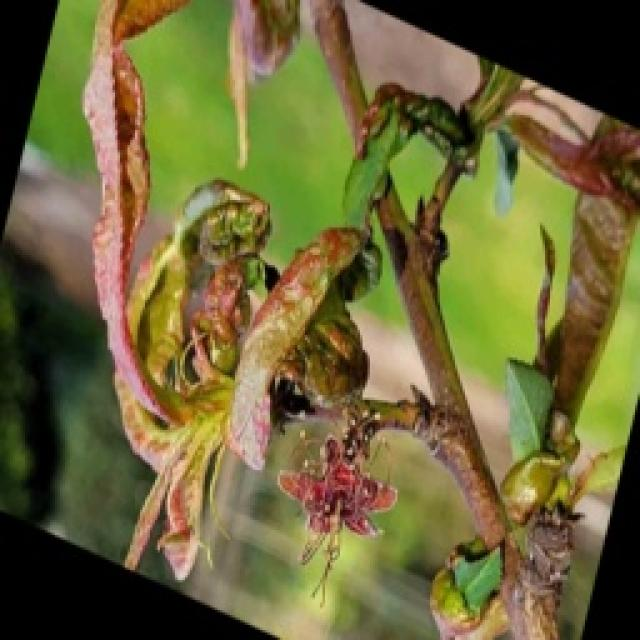peach_leaf_curl: (80, 0, 377, 582)
